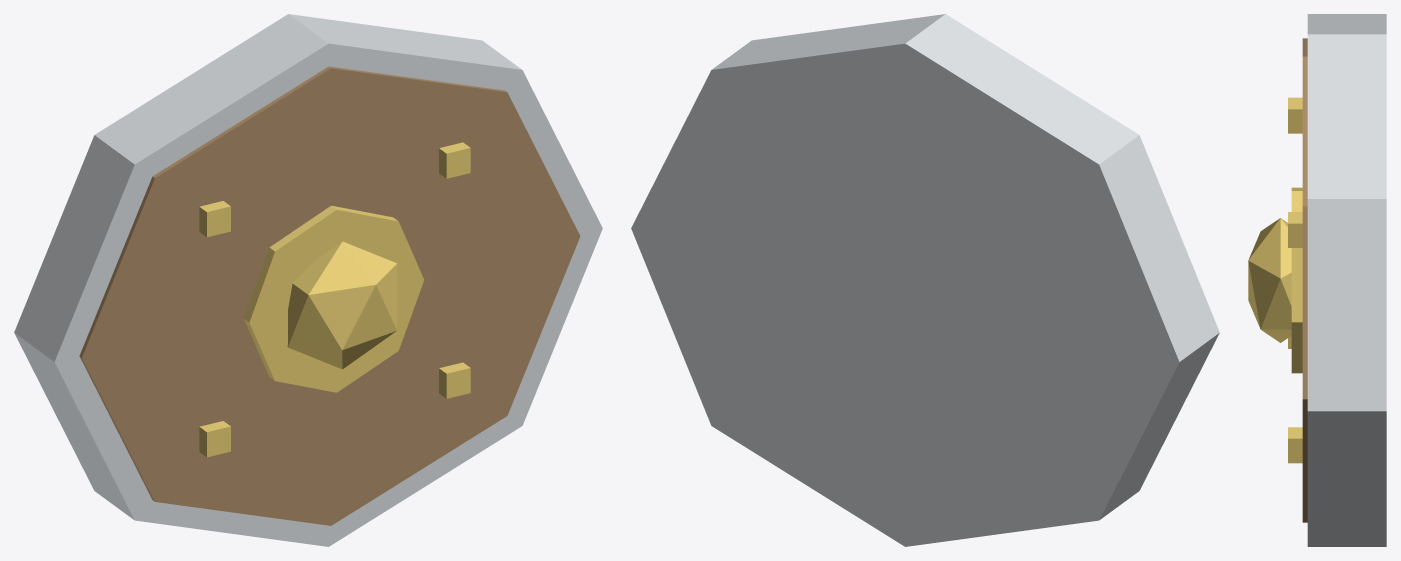
The model's file is block_shield.glb.
3 views of the same model, side by side, from view 1: azimuth 30°, elevation 25°; view 2: azimuth 150°, elevation 25°; view 3: azimuth 270°, elevation 25° (orthographic). The views are drawn at different scales.
Parts seen in each view (by area): view 1: shield_body, shield_rim, shield_boss_ring, shield_boss, shield_stud_0, shield_stud_2, shield_stud_3, shield_stud_1; view 2: shield_rim; view 3: shield_rim, shield_boss, shield_body, shield_boss_ring, shield_stud_1, shield_stud_3, shield_stud_0.
Boxes of the visible parts, <box> form: shield_body: <box>79,66,580,525</box>; shield_rim: <box>14,14,602,546</box>; shield_boss_ring: <box>244,205,424,392</box>; shield_boss: <box>287,241,397,369</box>; shield_stud_0: <box>439,142,470,178</box>; shield_stud_2: <box>199,421,230,457</box>; shield_stud_3: <box>439,362,470,398</box>; shield_stud_1: <box>199,201,230,237</box>; shield_rim: <box>631,14,1219,546</box>; shield_rim: <box>1307,14,1386,546</box>; shield_boss: <box>1248,218,1291,342</box>; shield_body: <box>1302,38,1307,522</box>; shield_boss_ring: <box>1291,187,1302,373</box>; shield_stud_1: <box>1288,97,1302,133</box>; shield_stud_3: <box>1288,427,1302,463</box>; shield_stud_0: <box>1288,212,1302,247</box>.
Bounding box in the file's own units: 1.25 × 1.1 × 0.2805.
